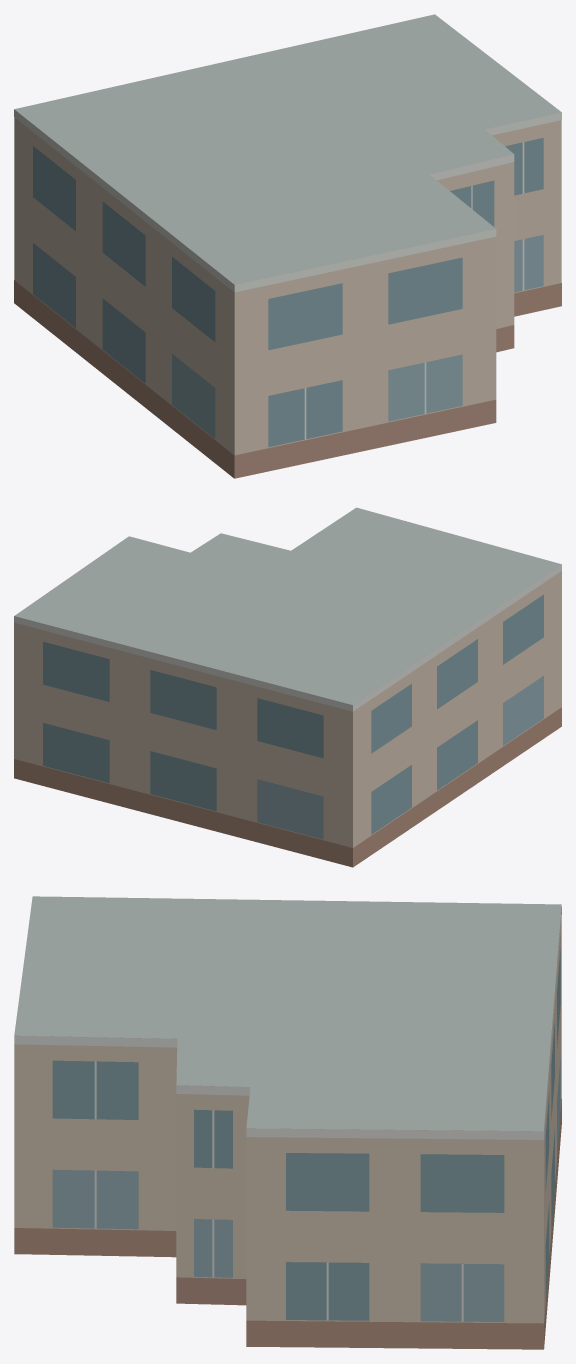
File: survey-upis-32876544.glb
3 views of the same model, one above another, from view 1: azimuth 30°, elevation 25°; view 2: azimuth 150°, elevation 25°; view 3: azimuth 270°, elevation 25° (orthographic). The views are drawn at different scales.
Parts seen in each view (by area): view 1: survey-upis-32876544.tmp; view 2: survey-upis-32876544.tmp; view 3: survey-upis-32876544.tmp.
Boxes of the visible parts, x1,y1,x2,y2 form: survey-upis-32876544.tmp: (14,14,561,478); survey-upis-32876544.tmp: (14,507,561,867); survey-upis-32876544.tmp: (14,896,561,1349).
Size of the model in its own units: 14.09 by 6.1 by 13.88.
